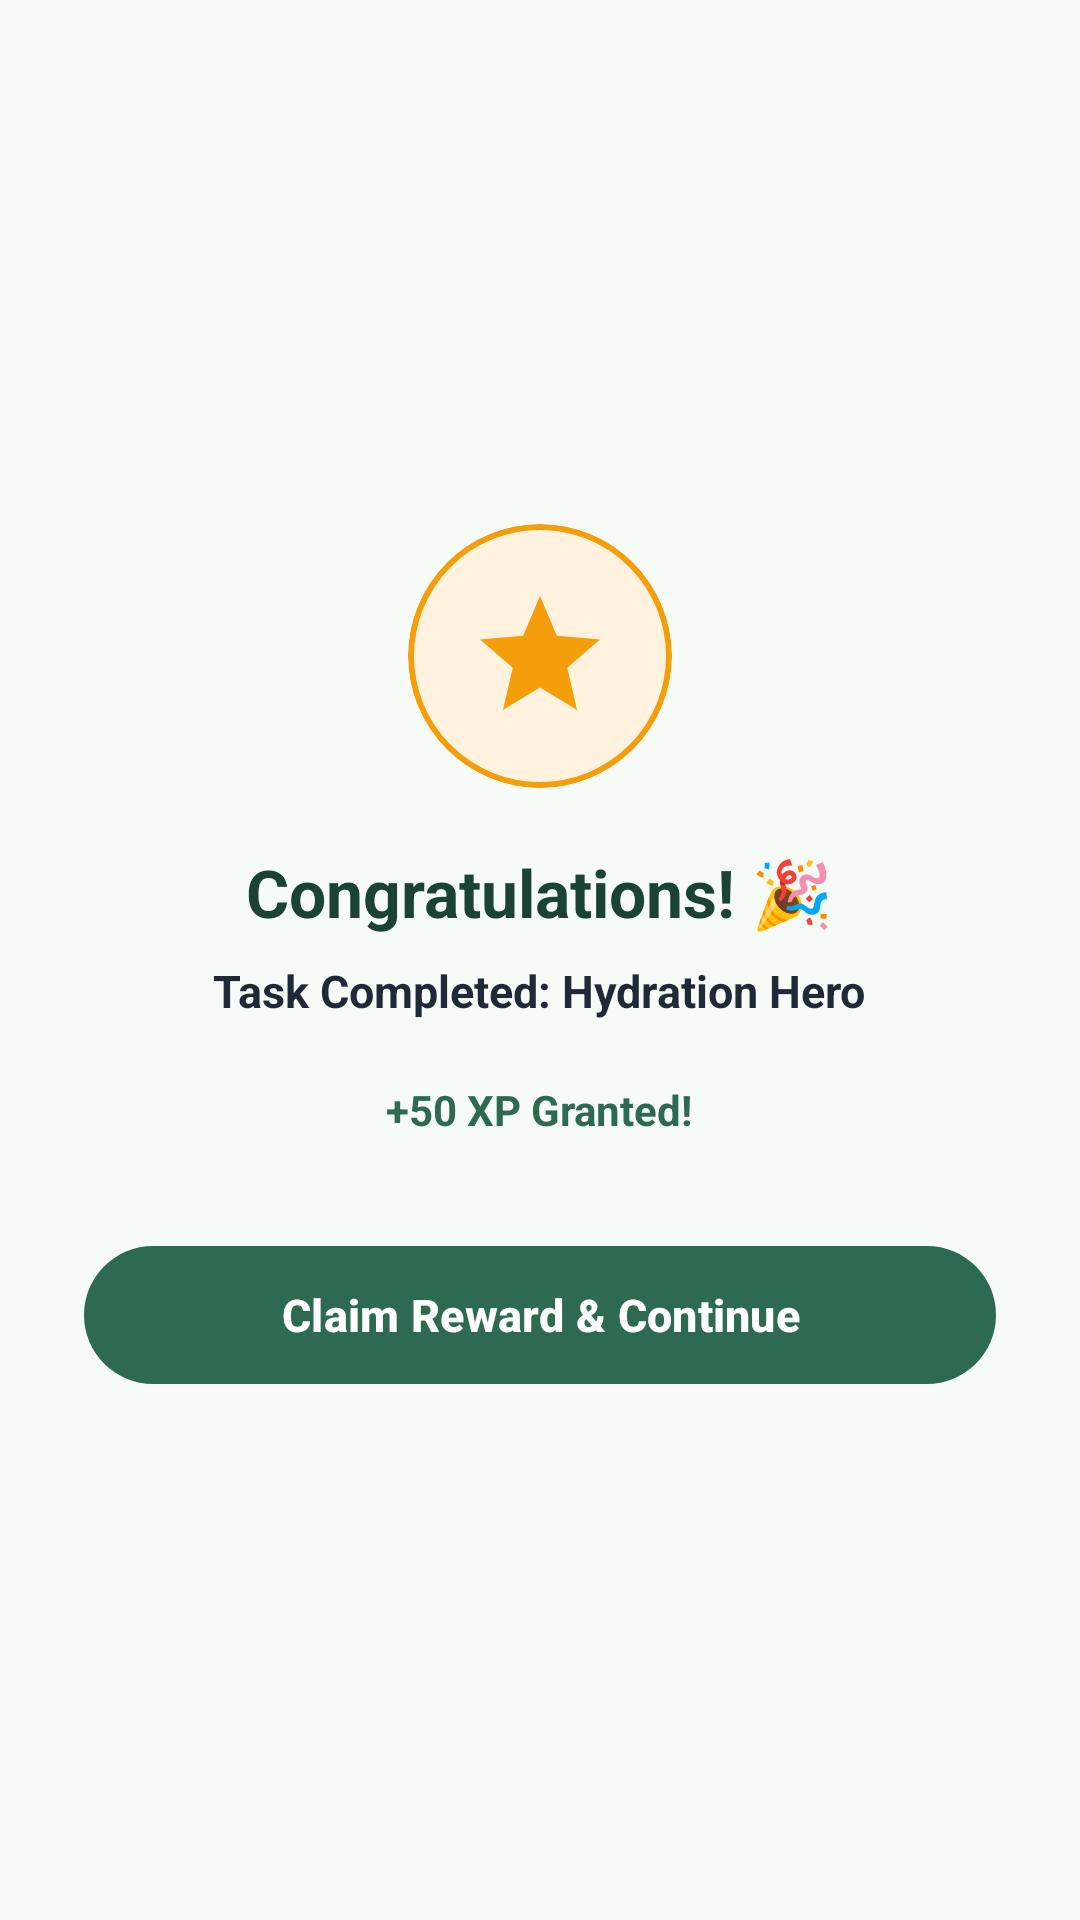

Point at icon controls on the screen. Image size 1080×1920, points as point (x, y).
Star: point (540, 653)
